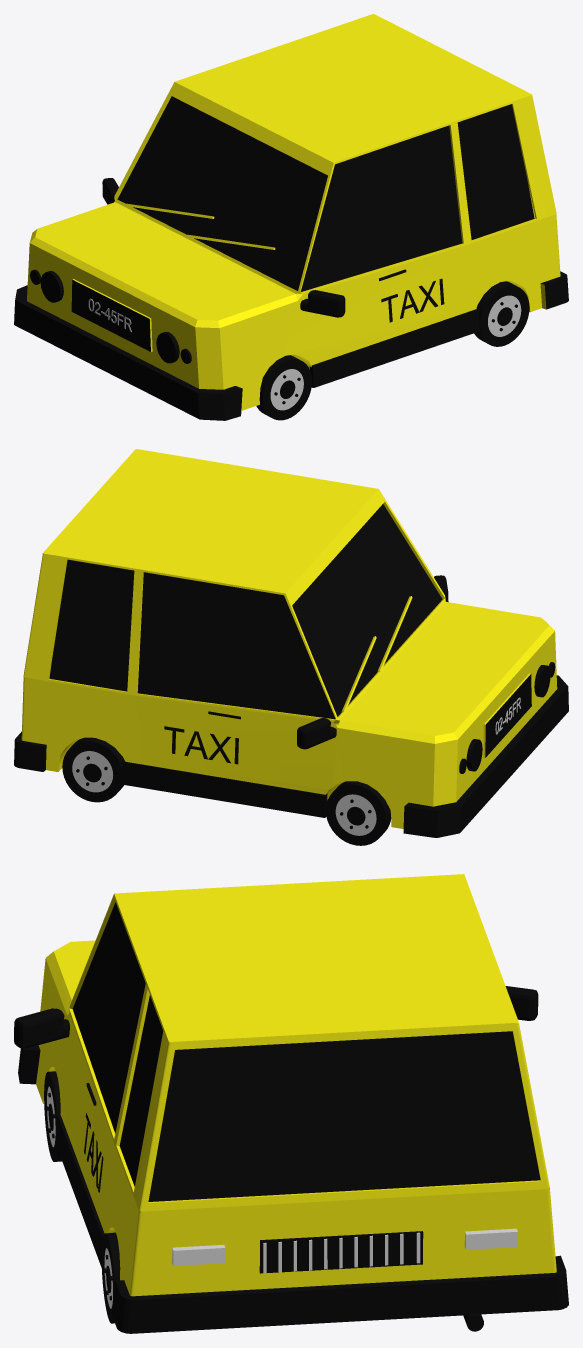
File: Taxi.obj
3 views of the same model, one above another, from view 1: azimuth 30°, elevation 25°; view 2: azimuth 150°, elevation 25°; view 3: azimuth 270°, elevation 25° (orthographic). The views are drawn at different scales.
Visible parts, largest first — view 1: Box33023, Object3113, Object3105, Box33007, Object3110, Cylinder5499, Cylinder5495, Box33012, Object3107, Object3109, Object3111, Text100 (+2 smaller); view 2: Box33023, Object3113, Object3105, Box33028, Cylinder5496, Cylinder5509, Object3110, Object3106, Object3112, Object3111, Box33008, Text101; view 3: Box33023, Object3108, Object3111, Object3113, Box33010, Box33007, Box33012, Box33011, Box33022, Cylinder5499, Cylinder5495, Box33008 (+1 smaller).
Boxes of the visible parts, box(x1,y1,x2,y2) form: Box33023: box(27, 14, 560, 410); Object3113: box(117, 96, 534, 291); Object3105: box(14, 285, 242, 420); Box33007: box(309, 308, 479, 387); Object3110: box(71, 279, 150, 351); Cylinder5499: box(474, 281, 529, 346); Cylinder5495: box(256, 355, 312, 420); Box33012: box(300, 290, 345, 317); Object3107: box(488, 295, 521, 336); Object3109: box(270, 369, 303, 410); Object3111: box(541, 271, 568, 309); Text100: box(381, 278, 444, 322); Box33023: box(21, 449, 557, 828); Object3113: box(49, 504, 442, 719); Object3105: box(403, 675, 568, 837); Box33028: box(122, 760, 327, 817); Cylinder5496: box(325, 781, 391, 845); Cylinder5509: box(62, 737, 124, 802); Object3110: box(485, 674, 531, 757); Object3106: box(335, 794, 376, 835); Object3112: box(72, 751, 113, 792); Object3111: box(14, 731, 46, 771); Box33008: box(297, 718, 336, 749); Text101: box(164, 726, 238, 764); Box33023: box(36, 874, 556, 1296); Object3108: box(148, 1031, 540, 1201); Object3111: box(111, 1255, 568, 1333); Object3113: box(72, 902, 163, 1186); Box33010: box(259, 1231, 423, 1273); Box33007: box(56, 1115, 104, 1267); Box33012: box(14, 1008, 69, 1048); Box33011: box(172, 1245, 225, 1265); Box33022: box(464, 1228, 517, 1249); Cylinder5499: box(101, 1232, 120, 1323); Cylinder5495: box(44, 1071, 61, 1161); Box33008: box(505, 986, 538, 1020).
Bounding box in the file's own units: 1931 × 951 × 1513.
